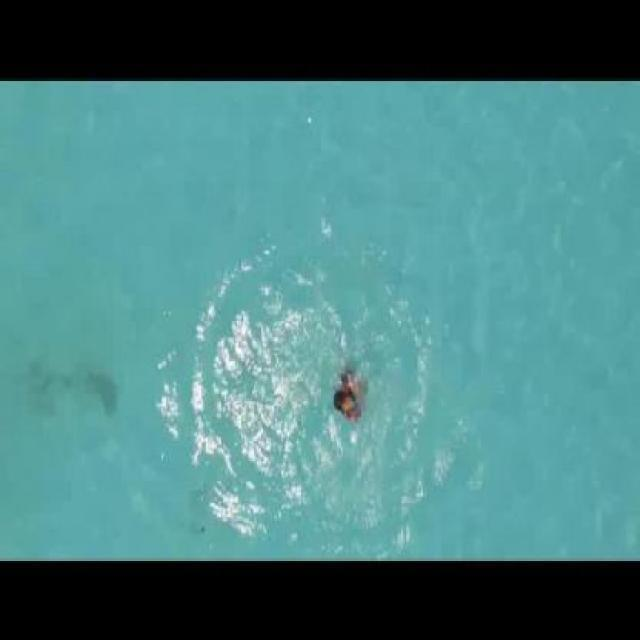swimming: (328, 367, 387, 440)
